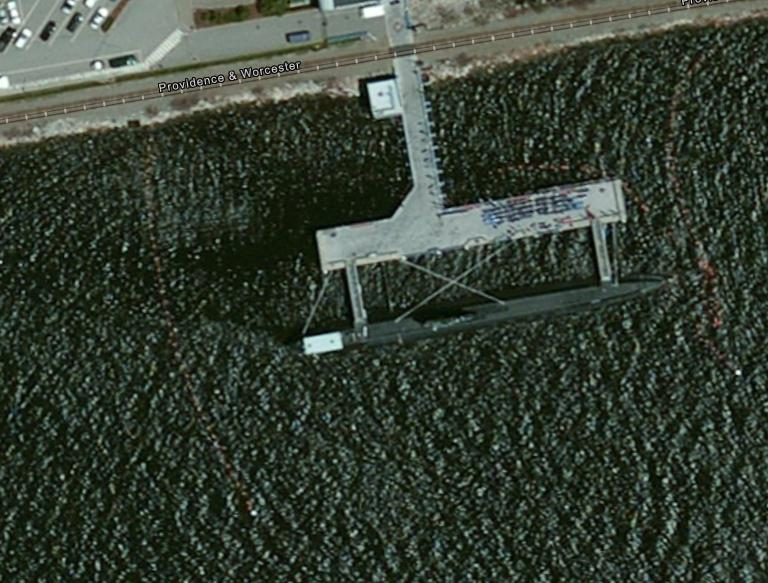submarine: (279, 270, 696, 361)
